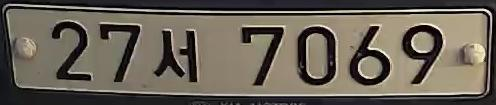0: (292, 22, 346, 90)
2: (48, 16, 96, 87)
6: (343, 21, 399, 88)
7: (233, 19, 292, 90), (95, 17, 147, 86)
9: (398, 21, 448, 88)
서: (148, 22, 207, 88)
